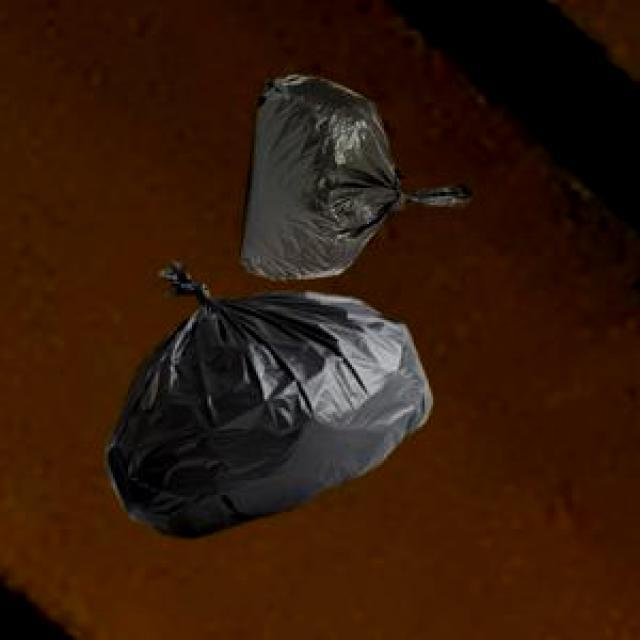Trashbag: (99, 252, 442, 548), (233, 61, 477, 288)
